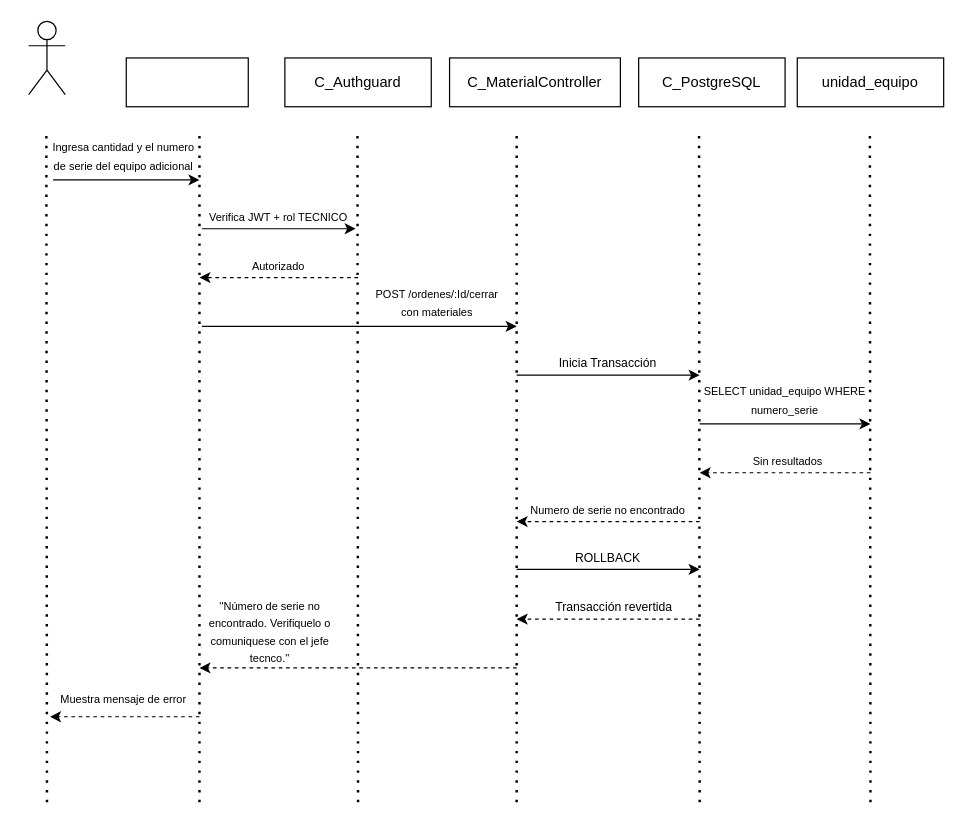
Image size: 965x826. Some labels were removed from this diagram. The shapes that lost their labels are listed below. From the top down, each one's centre as x and y in pixels, then its label:
At [46,57]: "Técnico".
At [186,82]: "V_CerrarOT".
